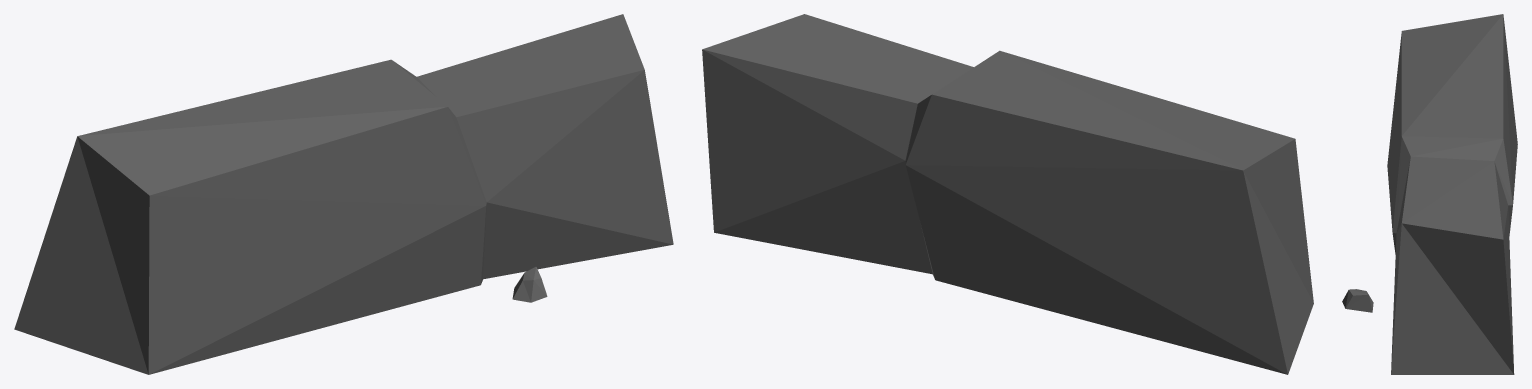
Rendered from Stone_Rail_06.FBX.
3 views of the same model, side by side, from view 1: azimuth 30°, elevation 25°; view 2: azimuth 150°, elevation 25°; view 3: azimuth 270°, elevation 25° (orthographic). The views are drawn at different scales.
Parts seen in each view (by area): view 1: Stone_Rail_06; view 2: Stone_Rail_06; view 3: Stone_Rail_06.
Part boxes in pixels (left/top/right/bottom): Stone_Rail_06: left=14, top=14, right=673, bottom=374; Stone_Rail_06: left=702, top=14, right=1313, bottom=374; Stone_Rail_06: left=1342, top=14, right=1517, bottom=374.
Size of the model in its own units: 2.63 by 0.781 by 0.8199.
